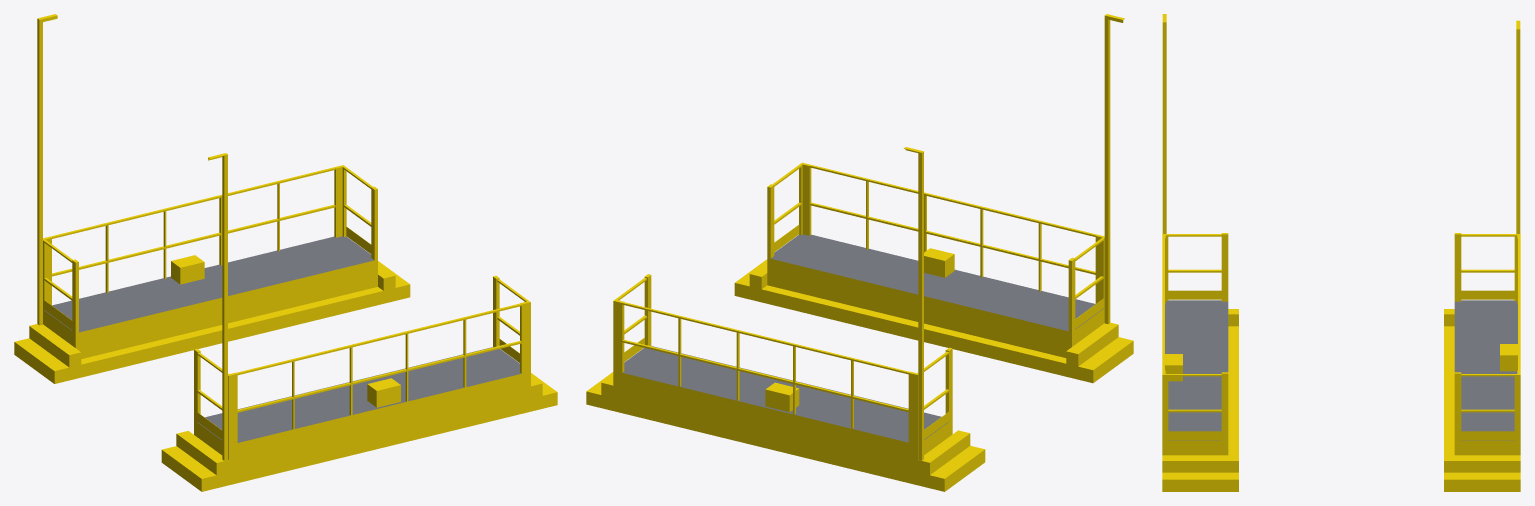
The model's file is nacelle.glb.
The picture shows the model from 3 angles, left to right: view 1: azimuth 30°, elevation 25°; view 2: azimuth 150°, elevation 25°; view 3: azimuth 270°, elevation 25°; orthographic projection. The views are drawn at different scales.
Parts seen in each view (by area): view 1: imagetostl_mesh178, imagetostl_mesh75, imagetostl_mesh33, imagetostl_mesh160, imagetostl_mesh27, imagetostl_mesh150, imagetostl_mesh26, imagetostl_mesh79, imagetostl_mesh83, imagetostl_mesh170, imagetostl_mesh185, imagetostl_mesh87 (+5 smaller); view 2: imagetostl_mesh183, imagetostl_mesh160, imagetostl_mesh65, imagetostl_mesh75, imagetostl_mesh167, imagetostl_mesh73, imagetostl_mesh184, imagetostl_mesh161, imagetostl_mesh185, imagetostl_mesh86, imagetostl_mesh79, imagetostl_mesh162 (+5 smaller); view 3: imagetostl_mesh160, imagetostl_mesh75, imagetostl_mesh174, imagetostl_mesh177, imagetostl_mesh26, imagetostl_mesh73, imagetostl_mesh168, imagetostl_mesh78, imagetostl_mesh30, imagetostl_mesh166, imagetostl_mesh38, imagetostl_mesh66 (+12 smaller).
Boxes of the visible parts, left/top/right/bottom form: imagetostl_mesh178: left=201, top=302, right=557, bottom=491; imagetostl_mesh75: left=44, top=236, right=374, bottom=332; imagetostl_mesh33: left=75, top=189, right=377, bottom=358; imagetostl_mesh160: left=198, top=347, right=521, bottom=442; imagetostl_mesh27: left=54, top=275, right=410, bottom=383; imagetostl_mesh150: left=52, top=168, right=335, bottom=292; imagetostl_mesh26: left=81, top=287, right=382, bottom=364; imagetostl_mesh79: left=43, top=240, right=75, bottom=347; imagetostl_mesh83: left=39, top=15, right=57, bottom=325; imagetostl_mesh170: left=224, top=154, right=227, bottom=460; imagetostl_mesh185: left=194, top=349, right=228, bottom=459; imagetostl_mesh87: left=37, top=18, right=39, bottom=324; imagetostl_mesh183: left=586, top=301, right=944, bottom=491; imagetostl_mesh160: left=771, top=234, right=1102, bottom=331; imagetostl_mesh65: left=767, top=187, right=1071, bottom=357; imagetostl_mesh75: left=622, top=346, right=948, bottom=442; imagetostl_mesh167: left=734, top=274, right=1093, bottom=383; imagetostl_mesh73: left=762, top=285, right=1066, bottom=363; imagetostl_mesh184: left=810, top=166, right=1095, bottom=291; imagetostl_mesh161: left=1104, top=15, right=1122, bottom=323; imagetostl_mesh185: left=1072, top=238, right=1104, bottom=346; imagetostl_mesh86: left=918, top=152, right=921, bottom=460; imagetostl_mesh79: left=918, top=348, right=952, bottom=459; imagetostl_mesh162: left=1108, top=19, right=1110, bottom=323; imagetostl_mesh160: left=1165, top=300, right=1228, bottom=440; imagetostl_mesh75: left=1454, top=300, right=1517, bottom=440; imagetostl_mesh174: left=1162, top=373, right=1228, bottom=455; imagetostl_mesh177: left=1454, top=373, right=1520, bottom=455; imagetostl_mesh26: left=1444, top=326, right=1454, bottom=455; imagetostl_mesh73: left=1228, top=326, right=1238, bottom=455; imagetostl_mesh168: left=1162, top=22, right=1166, bottom=233; imagetostl_mesh78: left=1516, top=29, right=1520, bottom=233; imagetostl_mesh30: left=1444, top=479, right=1520, bottom=491; imagetostl_mesh166: left=1162, top=479, right=1238, bottom=491; imagetostl_mesh38: left=1444, top=461, right=1520, bottom=472; imagetostl_mesh66: left=1162, top=461, right=1238, bottom=472.
Bounding box in the file's own units: 4.63 × 4.12 × 4.23.
